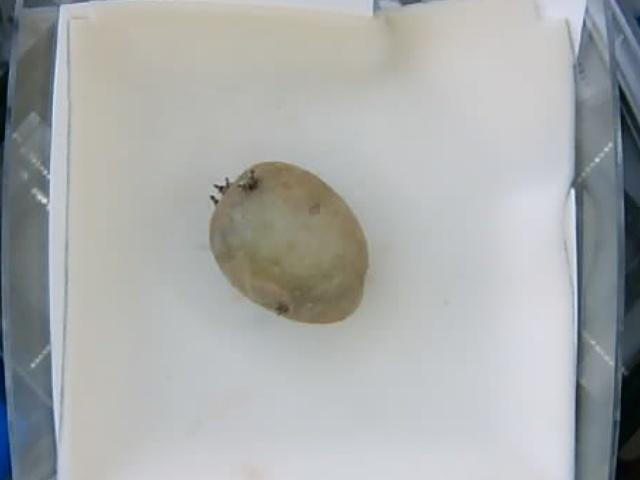Potato: (209, 160, 367, 321)
